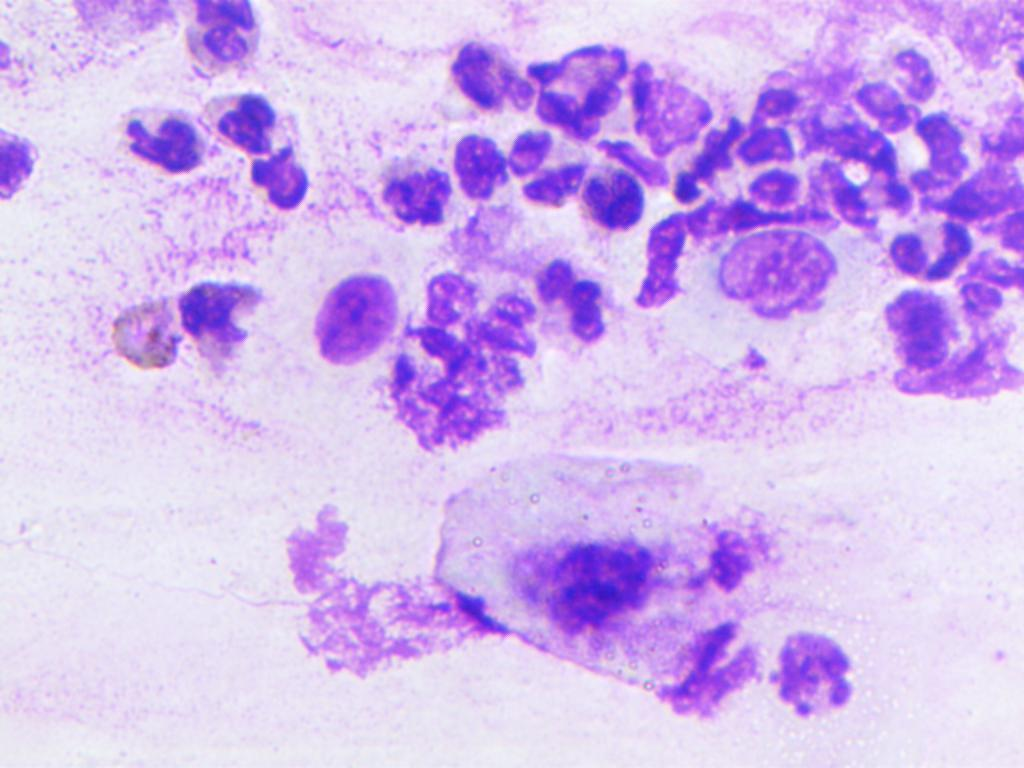artifact: (265, 497, 457, 684), (695, 221, 852, 338), (505, 534, 667, 633), (297, 262, 406, 369), (872, 281, 953, 373)
erythrocyte: (112, 291, 188, 376)
neutrophil: (795, 89, 913, 238), (679, 81, 804, 201), (615, 39, 720, 166), (484, 116, 595, 235), (844, 29, 963, 131), (762, 611, 865, 725), (520, 39, 634, 140), (177, 267, 271, 375), (510, 245, 609, 340), (111, 99, 212, 187), (166, 1, 278, 80), (877, 208, 979, 290), (437, 37, 535, 120), (368, 147, 454, 239), (904, 99, 973, 210), (203, 84, 283, 156), (953, 249, 1024, 330), (587, 148, 650, 234), (247, 143, 310, 213), (450, 129, 508, 199)
